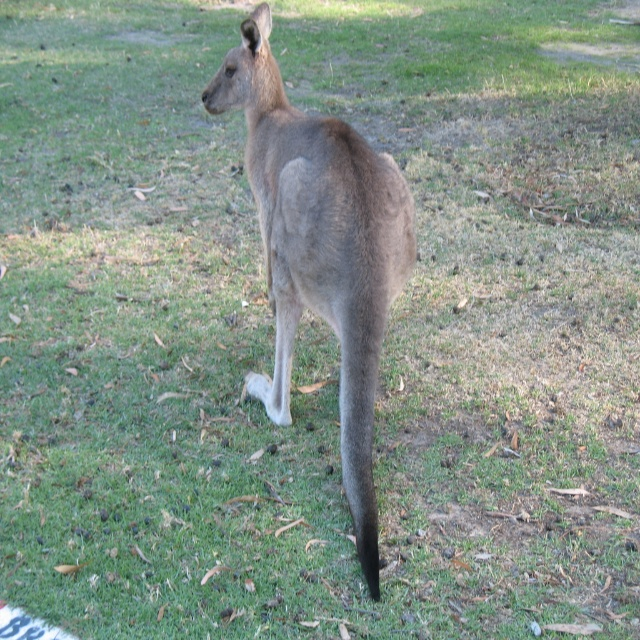Kangaroo: (202, 2, 414, 604)
